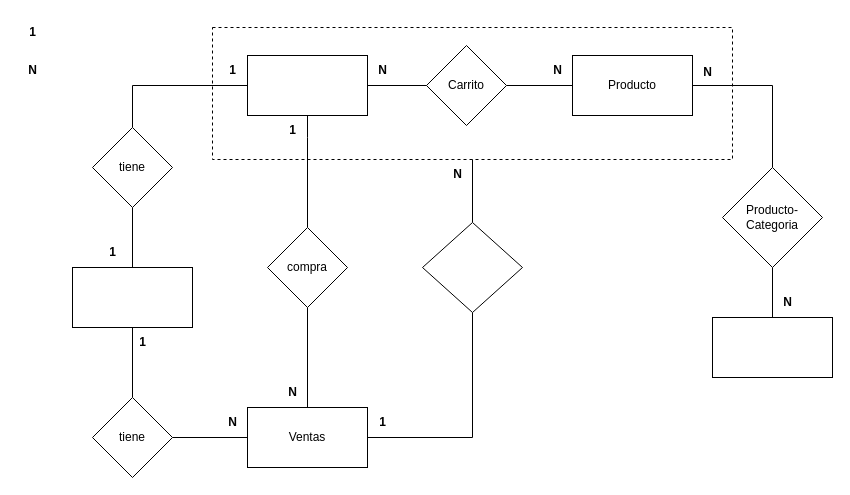
This 850x495 diagram has some shape labels left out. Here are the shapes that lost their labels. From the top down, the box of each, then its label:
(246, 54, 368, 116): Usuario
(422, 222, 522, 312): Carrito-Venta
(72, 266, 192, 328): HistorialDeCompra
(712, 316, 832, 378): Categoria
